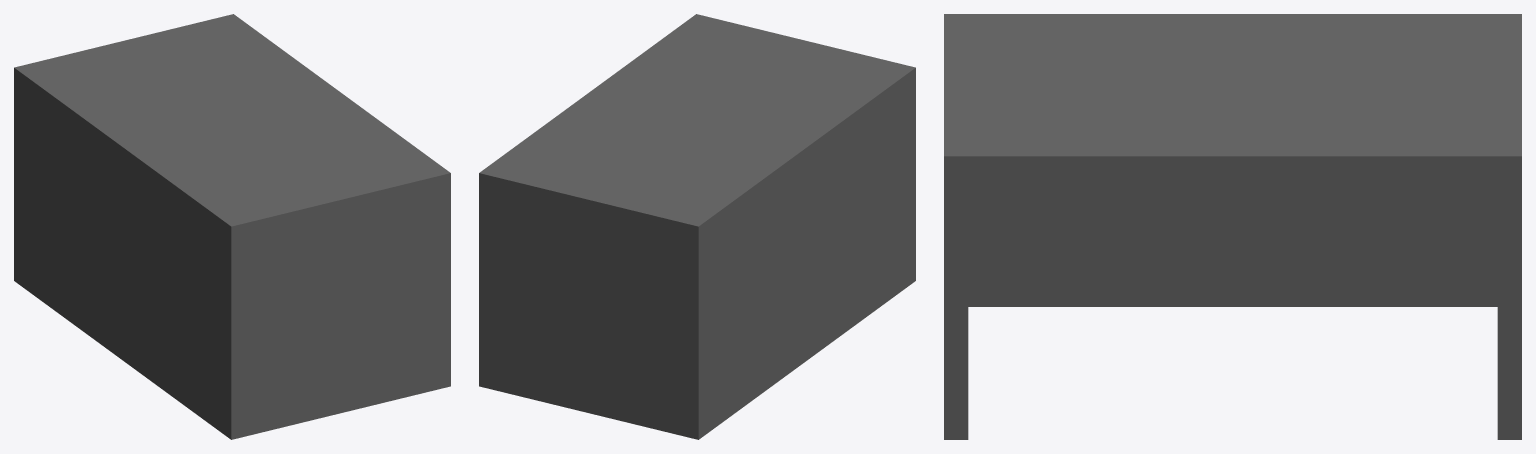
Rendered from Desk.fbx.
3 renders of one model, left to right at view 1: azimuth 30°, elevation 25°; view 2: azimuth 150°, elevation 25°; view 3: azimuth 270°, elevation 25°, orthographic. The views are drawn at different scales.
Parts seen in each view (by area): view 1: Desk; view 2: Desk; view 3: Desk.
Part boxes in pixels (left/top/right/bottom): Desk: left=14, top=14, right=450, bottom=439; Desk: left=479, top=14, right=915, bottom=439; Desk: left=944, top=14, right=1521, bottom=439.
Size of the model in its own units: 70 by 65 by 120.
